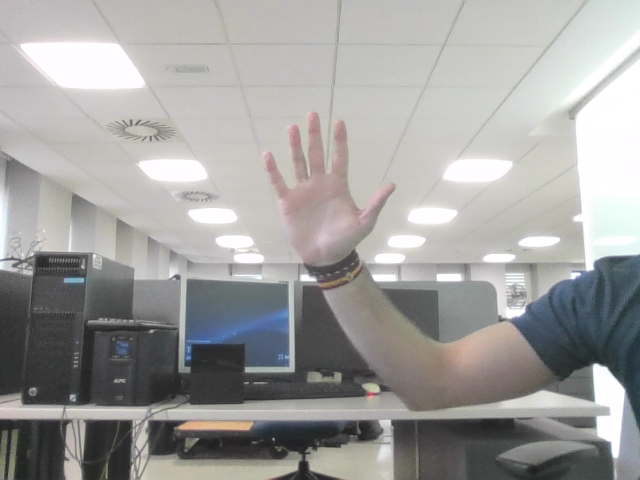Mano Abierta: (273, 123, 382, 238)
